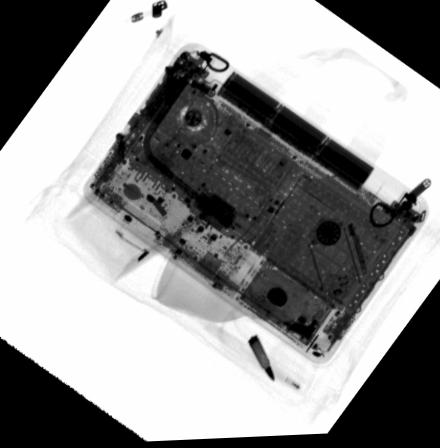Bullet: (246, 336, 275, 385)
